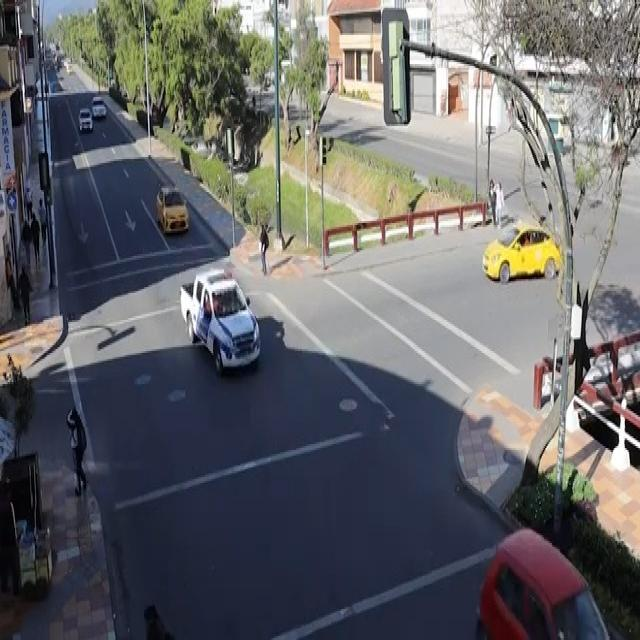CMT: (180, 268, 259, 372)
